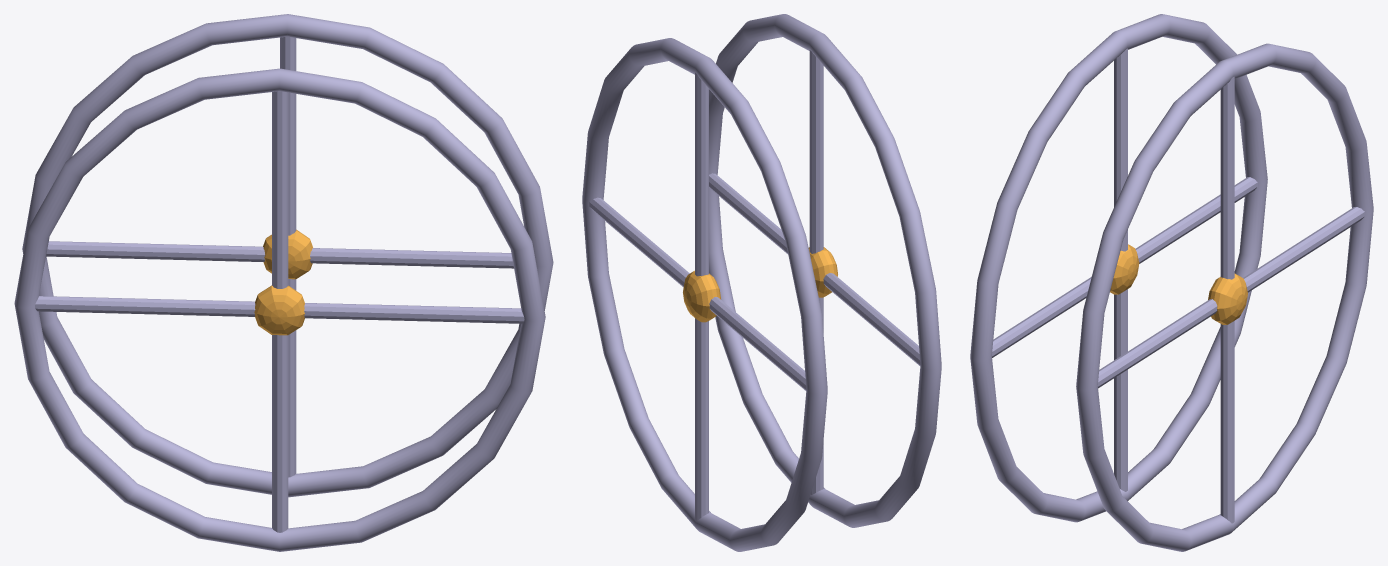
Rendered from Extras_FerrisWheel.fbx.
3 views of the same model, side by side, from view 1: azimuth 30°, elevation 25°; view 2: azimuth 150°, elevation 25°; view 3: azimuth 270°, elevation 25° (orthographic).
Parts seen in each view (by area): view 1: Extras_FerrisWheel; view 2: Extras_FerrisWheel; view 3: Extras_FerrisWheel.
Part boxes in pixels (left/top/right/bottom): Extras_FerrisWheel: left=14, top=14, right=553, bottom=551; Extras_FerrisWheel: left=582, top=14, right=941, bottom=551; Extras_FerrisWheel: left=970, top=14, right=1373, bottom=551.
Bounding box in the file's own units: 1074 × 1101 × 850.
